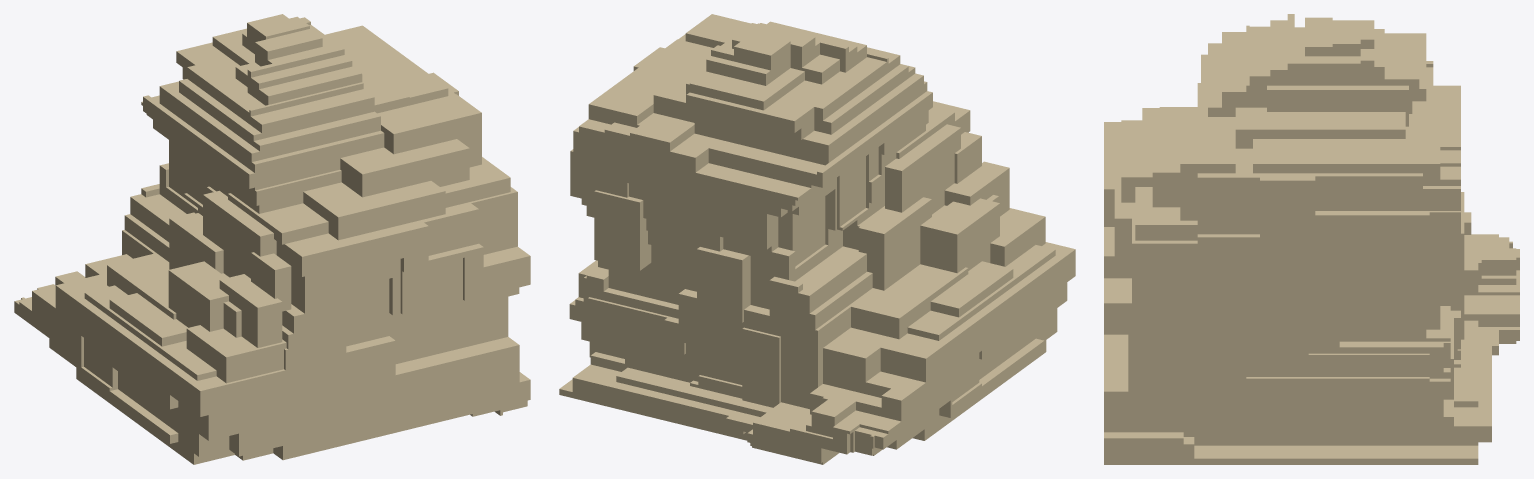
The model's file is BigClood.obj.
3 renders of one model, left to right at view 1: azimuth 30°, elevation 25°; view 2: azimuth 150°, elevation 25°; view 3: azimuth 270°, elevation 25°, orthographic. The views are drawn at different scales.
Parts seen in each view (by area): view 1: BigClood; view 2: BigClood; view 3: BigClood.
Boxes of the visible parts, x1=… form: BigClood: x1=14, y1=14, x2=530, y2=464; BigClood: x1=559, y1=14, x2=1075, y2=464; BigClood: x1=1104, y1=14, x2=1519, y2=464.
Size of the model in its own units: 120 by 116 by 120.
Materials: 1 (1 with a texture image).
